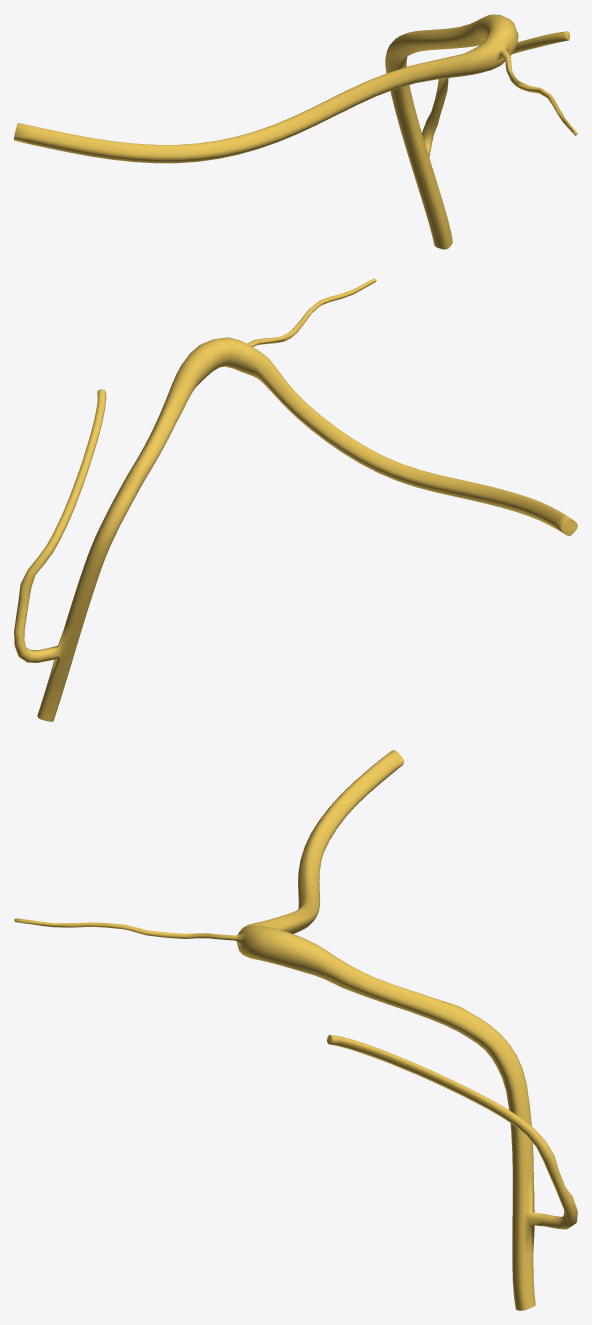
File: Facial_nerve_left.glb
3 views of the same model, one above another, from view 1: azimuth 30°, elevation 25°; view 2: azimuth 150°, elevation 25°; view 3: azimuth 270°, elevation 25° (orthographic). The views are drawn at different scales.
Parts seen in each view (by area): view 1: Facial_nerve.l_Anatomy_of_the_Inner_Ear_Sketchfab_upload_01.; view 2: Facial_nerve.l_Anatomy_of_the_Inner_Ear_Sketchfab_upload_01.; view 3: Facial_nerve.l_Anatomy_of_the_Inner_Ear_Sketchfab_upload_01..
Boxes of the visible parts, x1=… form: Facial_nerve.l_Anatomy_of_the_Inner_Ear_Sketchfab_upload_01.: x1=14, y1=14, x2=577, y2=249; Facial_nerve.l_Anatomy_of_the_Inner_Ear_Sketchfab_upload_01.: x1=14, y1=278, x2=577, y2=721; Facial_nerve.l_Anatomy_of_the_Inner_Ear_Sketchfab_upload_01.: x1=14, y1=750, x2=577, y2=1310.
Size of the model in its own units: 0.0294 by 0.0173 by 0.0254.
